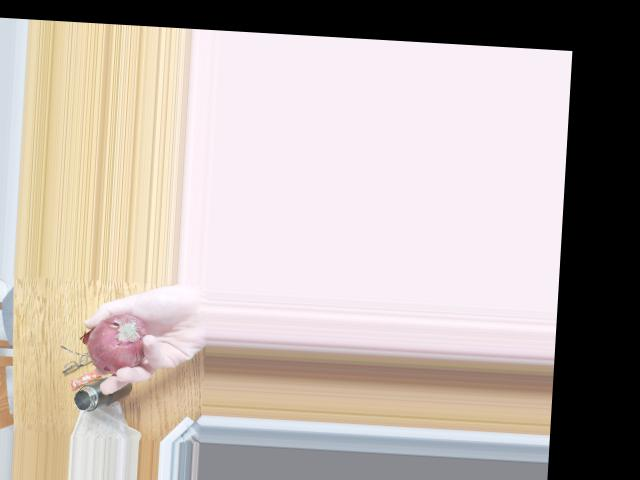onion: (86, 313, 141, 372)
